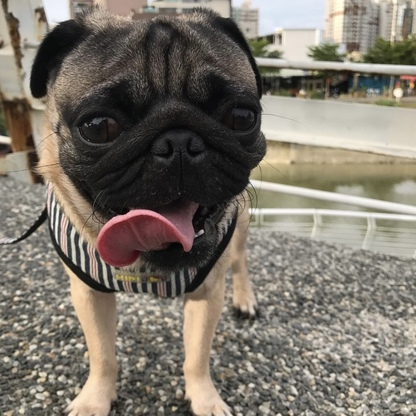Pug: (21, 3, 271, 416)
